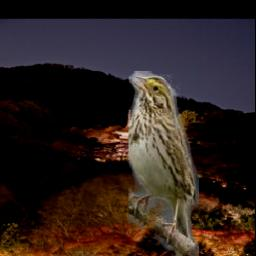Sparrow: (128, 72, 198, 256)
